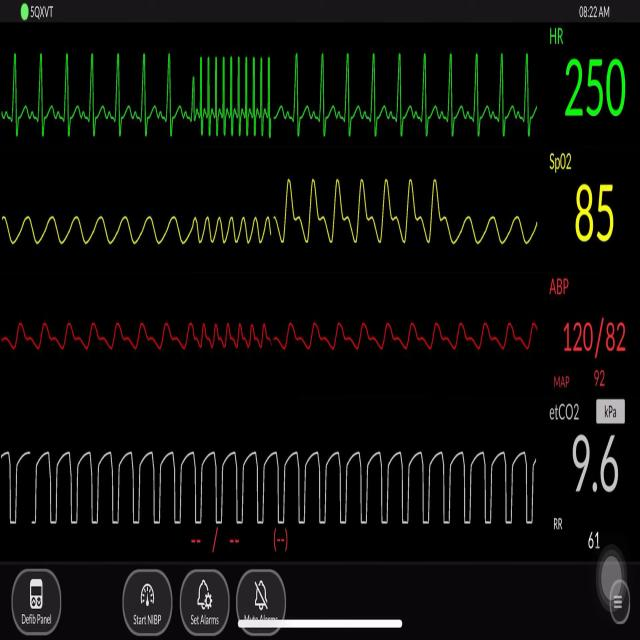danger: (183, 39, 282, 148)
